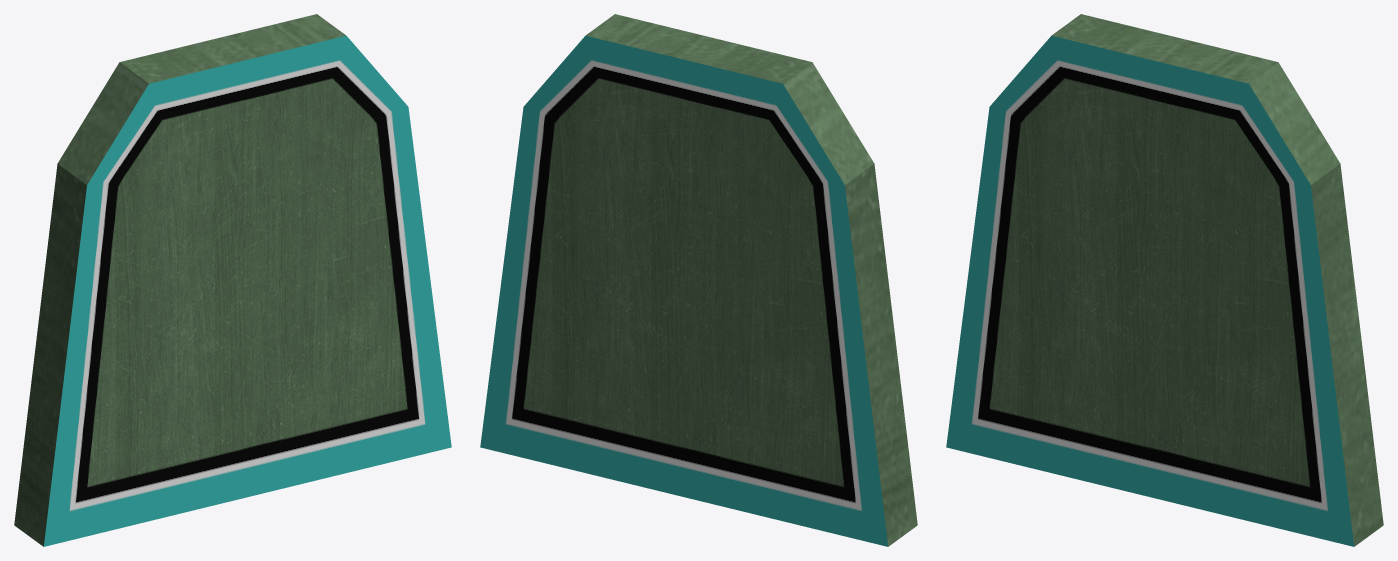
File: SM_Pandaegong01B.fbx
The picture shows the model from 3 angles, left to right: view 1: azimuth 30°, elevation 25°; view 2: azimuth 150°, elevation 25°; view 3: azimuth 330°, elevation 25°; orthographic projection.
Visible parts, largest first — view 1: SM_Pandaegong01B; view 2: SM_Pandaegong01B; view 3: SM_Pandaegong01B.
Part boxes in pixels (x1,y1,x2,y2): SM_Pandaegong01B: (14,14,451,546); SM_Pandaegong01B: (480,14,917,546); SM_Pandaegong01B: (946,14,1383,546).
Size of the model in its own units: 64.27 by 8.06 by 65.85.
